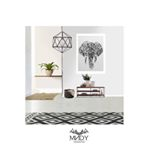other: (72, 73, 108, 100), (36, 59, 63, 82)
